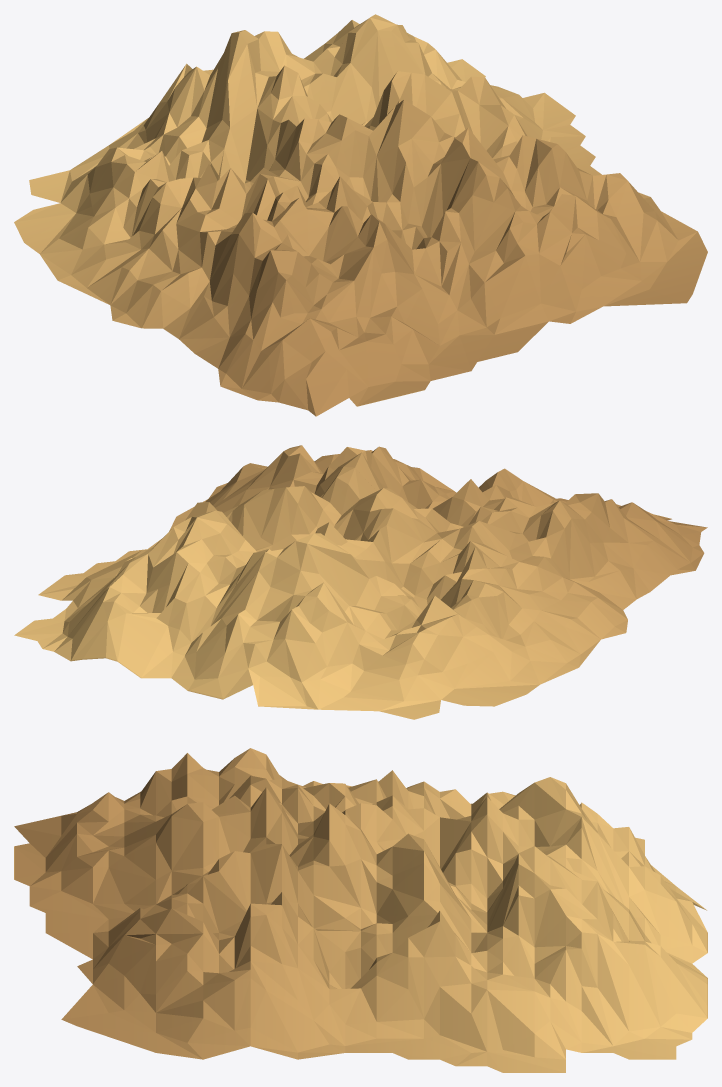
The model's file is GenericIsland2_LowPoly.fbx.
3 renders of one model, top to bottom at view 1: azimuth 30°, elevation 25°; view 2: azimuth 150°, elevation 25°; view 3: azimuth 270°, elevation 25°, orthographic. The views are drawn at different scales.
Parts seen in each view (by area): view 1: GenericIsland_3:TerrainMesh; view 2: GenericIsland_3:TerrainMesh; view 3: GenericIsland_3:TerrainMesh.
Boxes of the visible parts, <box> form: GenericIsland_3:TerrainMesh: <box>14,14,707,416</box>; GenericIsland_3:TerrainMesh: <box>14,445,707,719</box>; GenericIsland_3:TerrainMesh: <box>14,748,707,1072</box>.
Size of the model in its own units: 27.56 by 6.73 by 29.58.
1 material, 1 textured.
